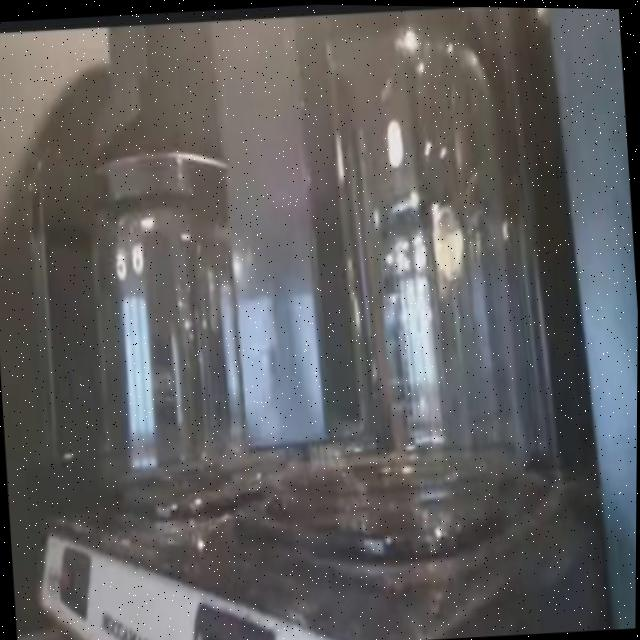nocoffee: (202, 2, 573, 578), (40, 116, 319, 526)
